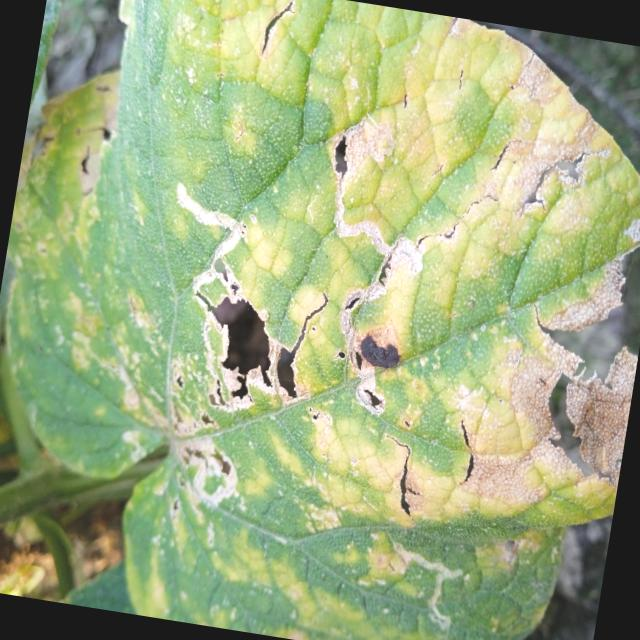cucumber_anthracnose: (6, 0, 640, 593)
